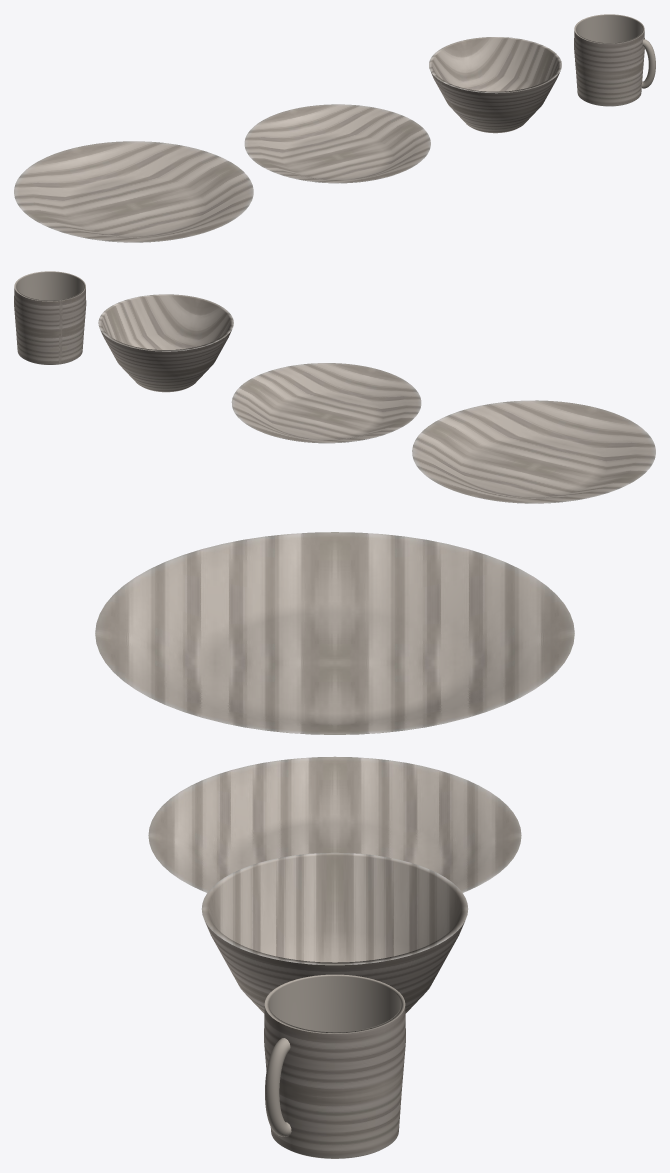
The model's file is EST-01.glb.
3 views of the same model, one above another, from view 1: azimuth 30°, elevation 25°; view 2: azimuth 150°, elevation 25°; view 3: azimuth 270°, elevation 25° (orthographic). The views are drawn at different scales.
Size of the model in its own units: 0.7933 by 0.08 by 0.27.
Materials: 9 (7 with a texture image).
